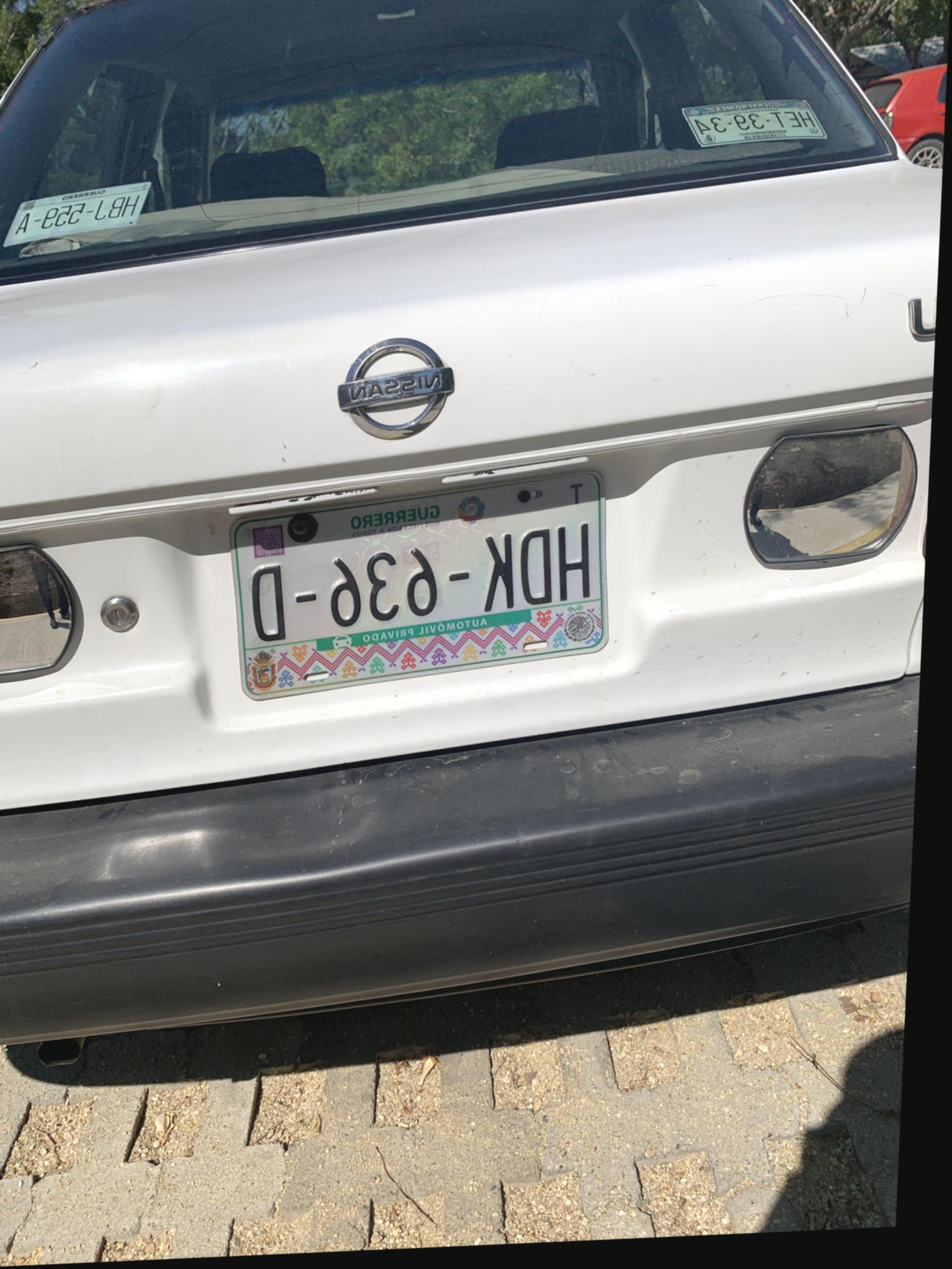License_Plate: (216, 440, 636, 738)
